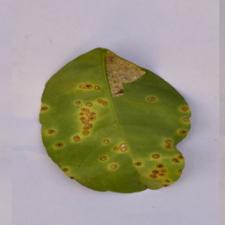Canker: (36, 45, 193, 193)
